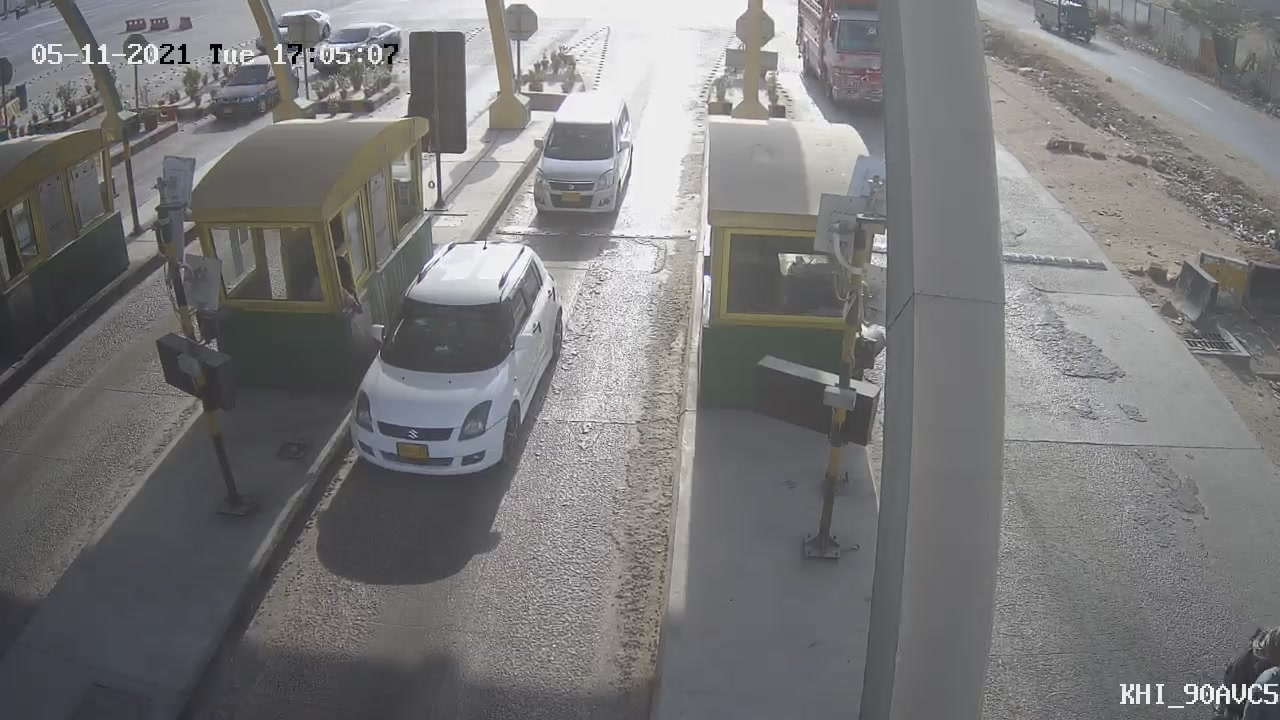F1: (313, 223, 584, 499), (509, 78, 649, 235)
